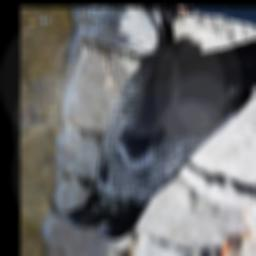Crow: (61, 7, 256, 242)
